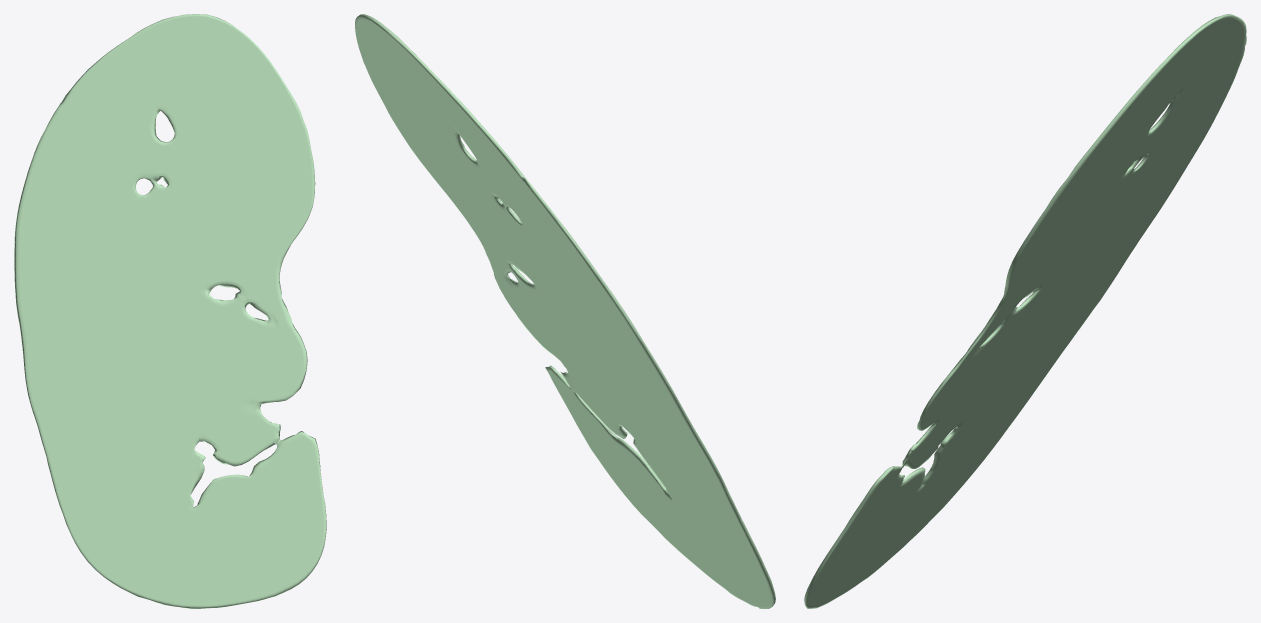
The model's file is VHM_Kidney_R_Extraction_Site.glb.
The picture shows the model from 3 angles, left to right: view 1: azimuth 30°, elevation 25°; view 2: azimuth 150°, elevation 25°; view 3: azimuth 270°, elevation 25°; orthographic projection. The views are drawn at different scales.
Visible parts, largest first — view 1: VHM_Kidney_R_Extraction_Site; view 2: VHM_Kidney_R_Extraction_Site; view 3: VHM_Kidney_R_Extraction_Site.
Boxes of the visible parts, left/top/right/bottom form: VHM_Kidney_R_Extraction_Site: left=14, top=14, right=326, bottom=608; VHM_Kidney_R_Extraction_Site: left=355, top=14, right=775, bottom=608; VHM_Kidney_R_Extraction_Site: left=804, top=14, right=1246, bottom=608.
Bounding box in the file's own units: 0.0788 × 0.1341 × 0.0843.
